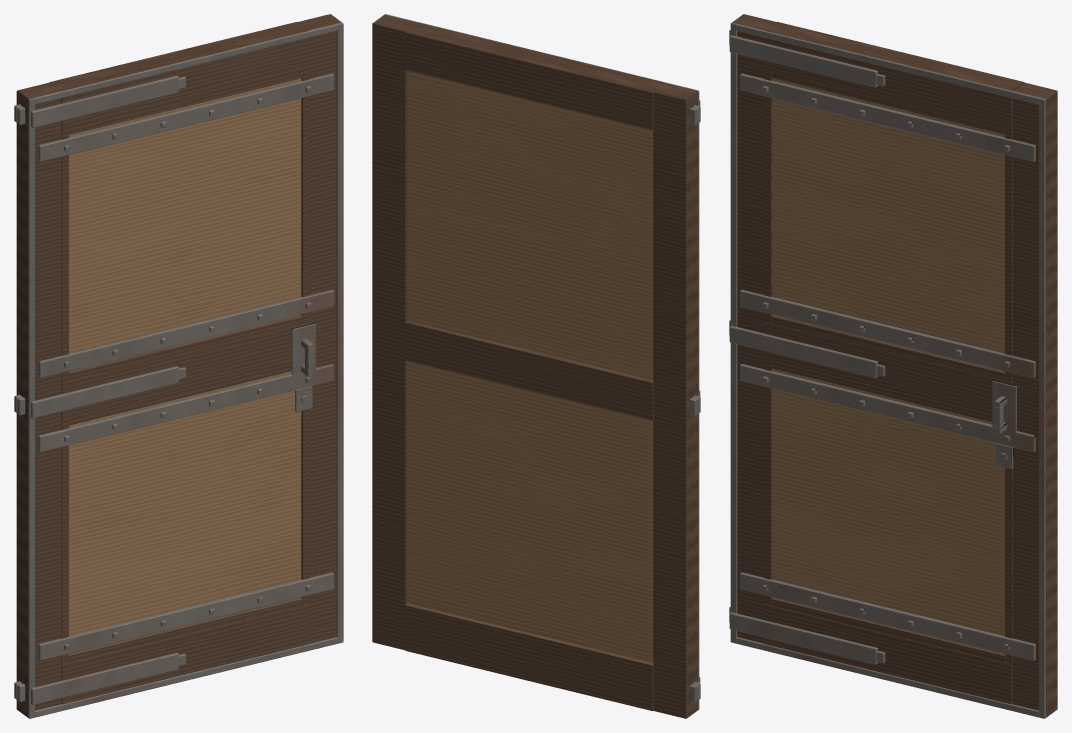
The model's file is door_sturdy.glb.
The picture shows the model from 3 angles, left to right: view 1: azimuth 30°, elevation 25°; view 2: azimuth 150°, elevation 25°; view 3: azimuth 330°, elevation 25°; orthographic projection.
Parts seen in each view (by area): view 1: door_sturdy; view 2: door_sturdy; view 3: door_sturdy.
Boxes of the visible parts, bbox=[...] form: door_sturdy: bbox=[14, 14, 343, 718]; door_sturdy: bbox=[372, 14, 700, 718]; door_sturdy: bbox=[729, 14, 1057, 718].
Size of the model in its own units: 1.04 by 1.92 by 0.1175.
Materials: 1 (1 with a texture image).
